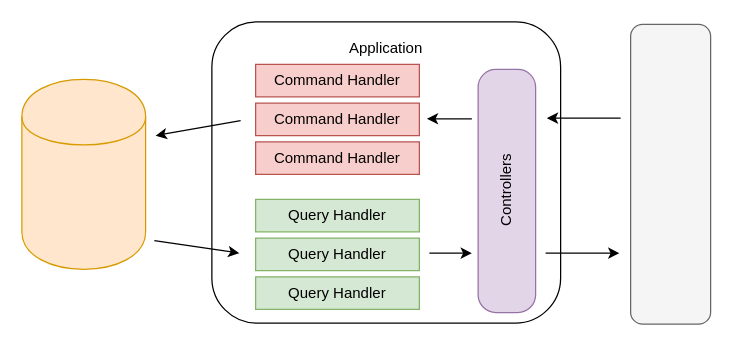
Some shapes in this 733 by 346 pixel diagram are drawn without their labels. The centre of each missing label's shape, as x and y in pixels:
SQL Database: [83,173]
UI: [670,173]
